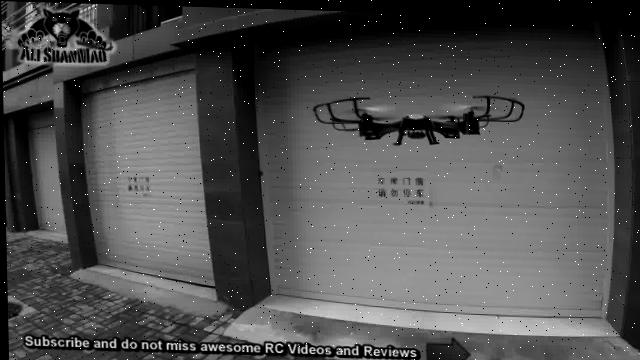drone: (317, 79, 531, 151)
